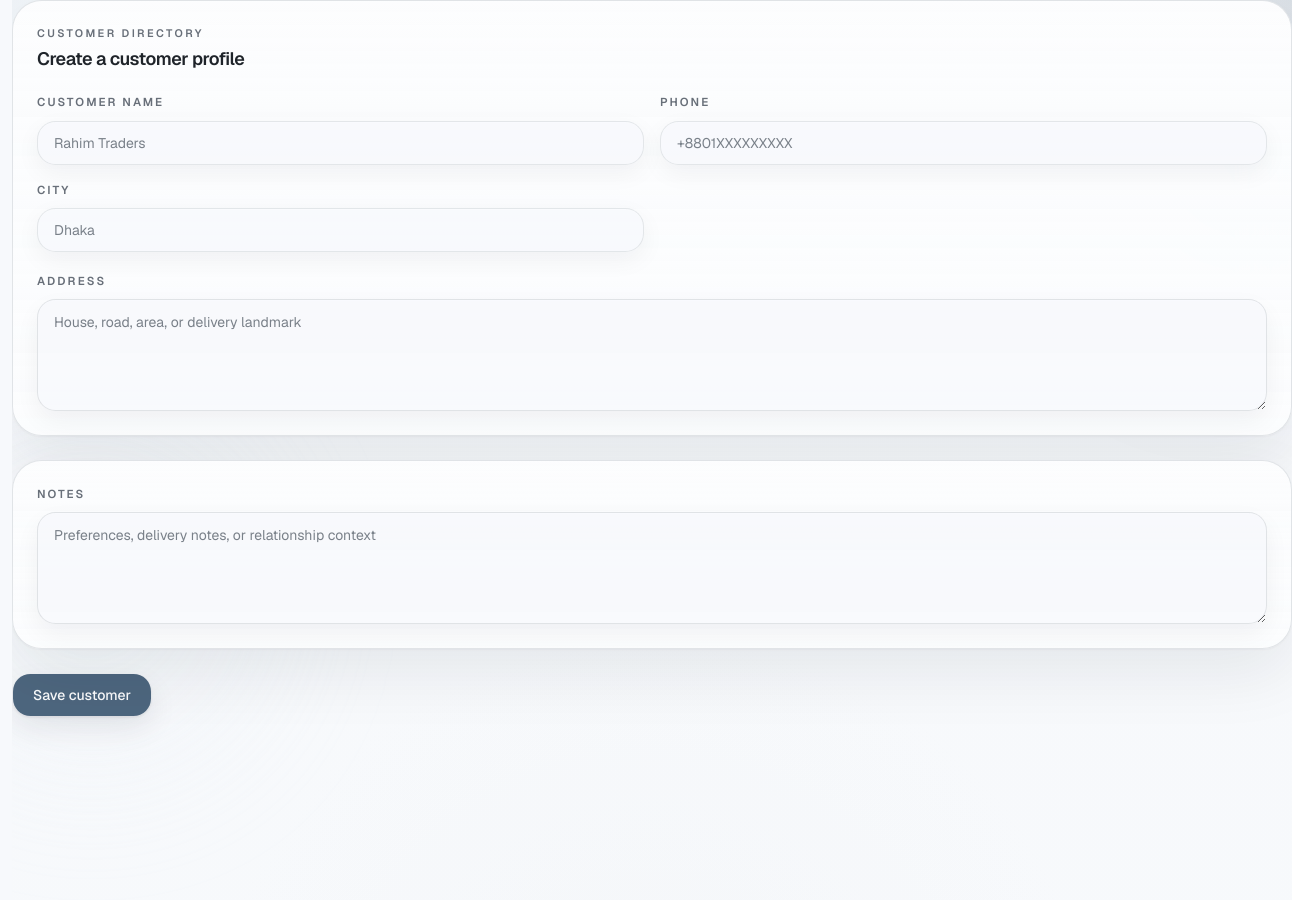
CustomerForm › shows required field validation on submit
Click the button "Save customer". click: (82, 695)
box: left=12, top=673, right=152, bottom=717
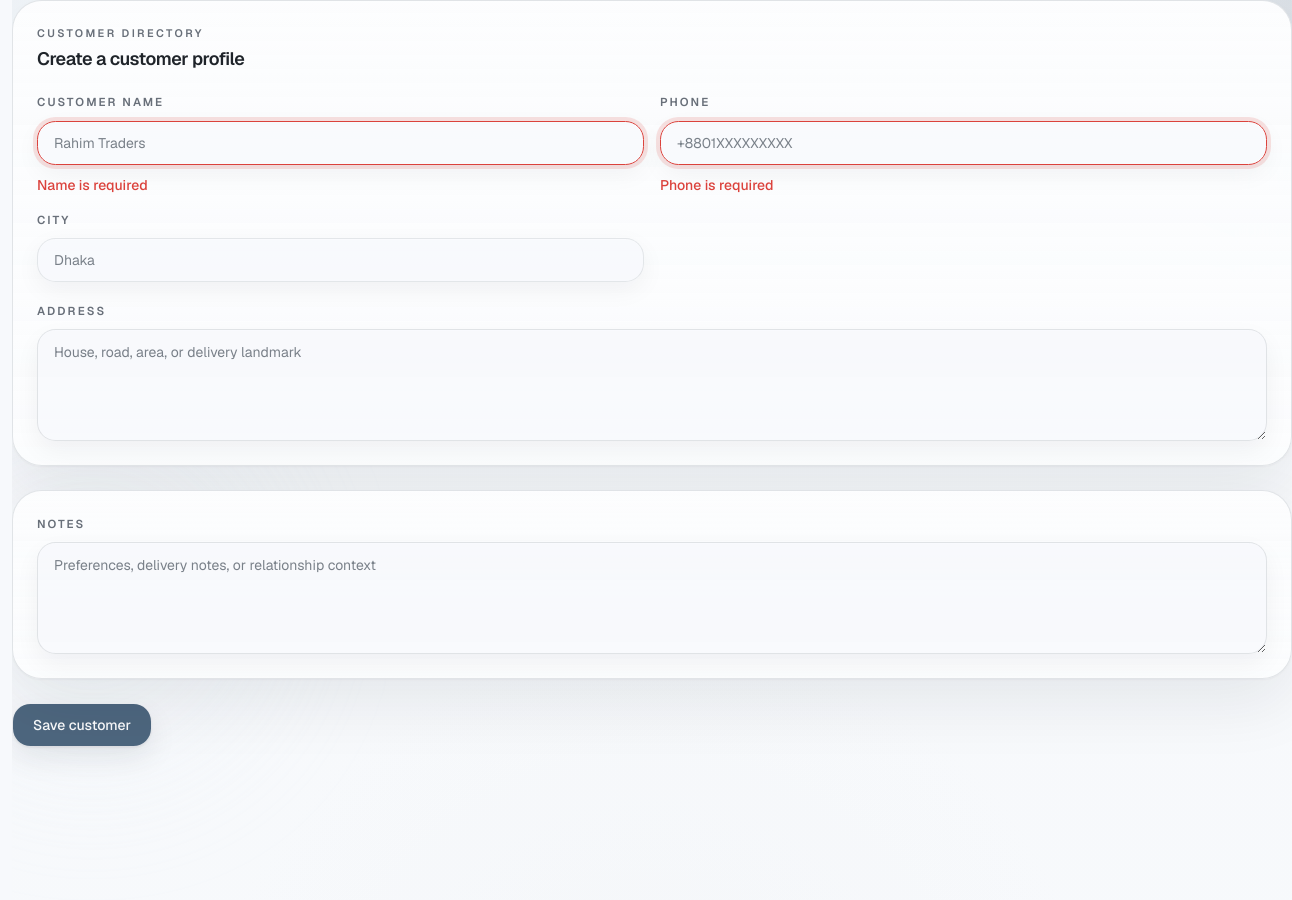
Expected: the text "Name is required" is shown, left=37, top=176, right=148, bottom=194
Expected: the text "Phone is required" is shown, left=660, top=176, right=774, bottom=194
